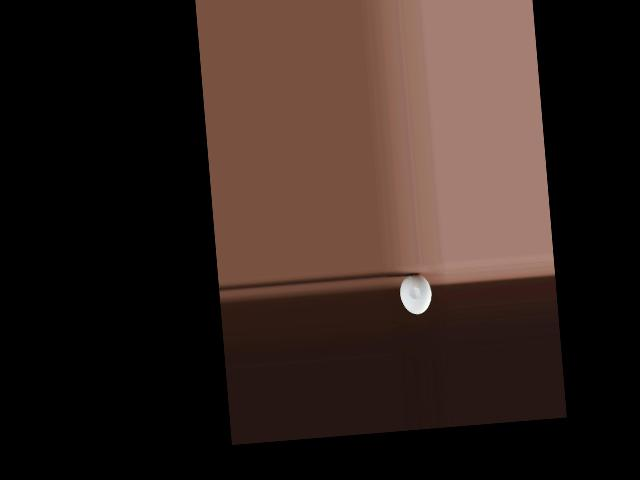egg: (398, 272, 432, 315)
